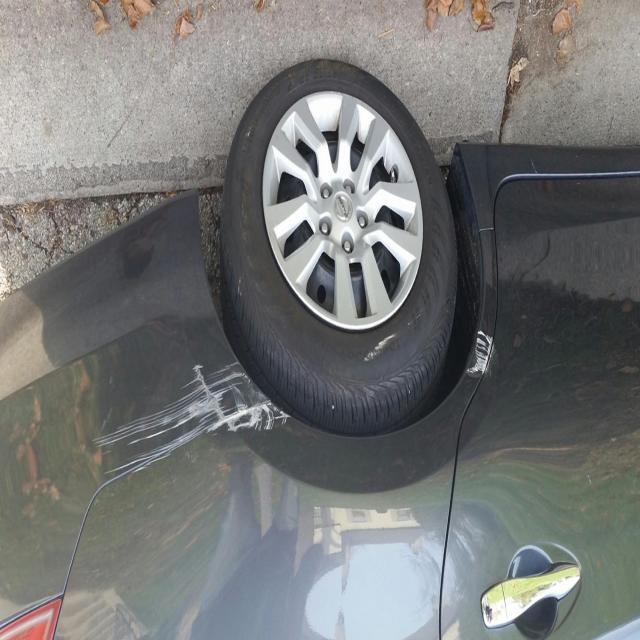scratch: (100, 350, 285, 481), (452, 313, 504, 394)
